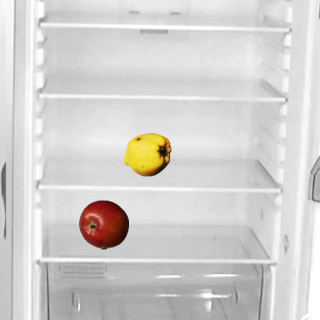Apple Braeburn: (78, 199, 128, 249)
Quince: (121, 129, 171, 179)
